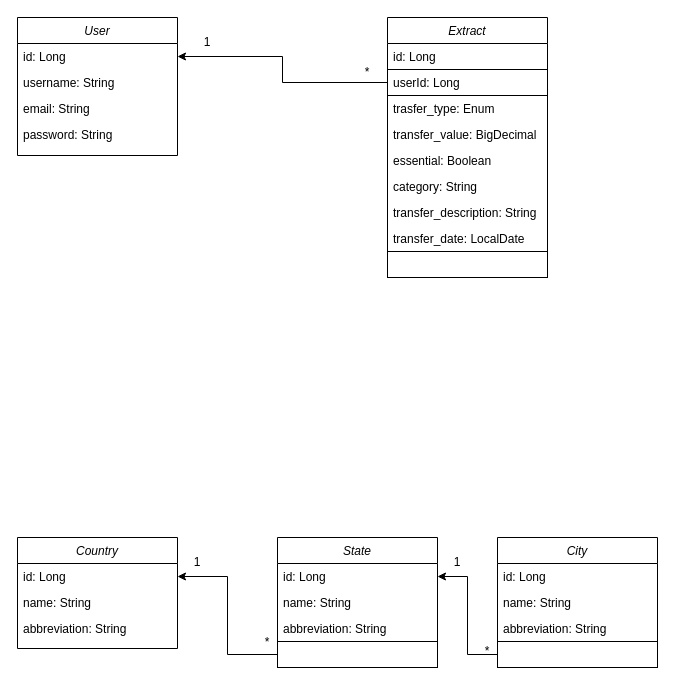
Image size: 675x688. Some labels were removed from this diagram. Here are the shapes that lost their labels. From the top down, the centre of each, then its label:
pixel 467 264: companyId: Long
pixel 357 654: country_id: Long
pixel 577 654: state_id: Long
